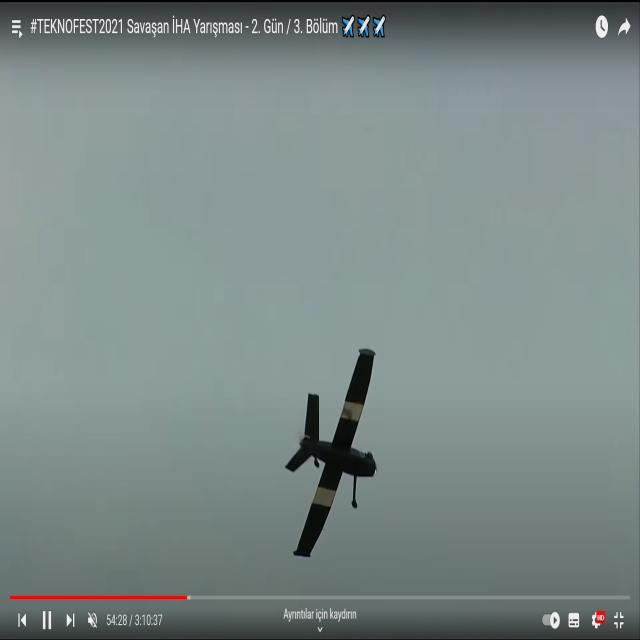iha: (311, 345, 341, 560)
